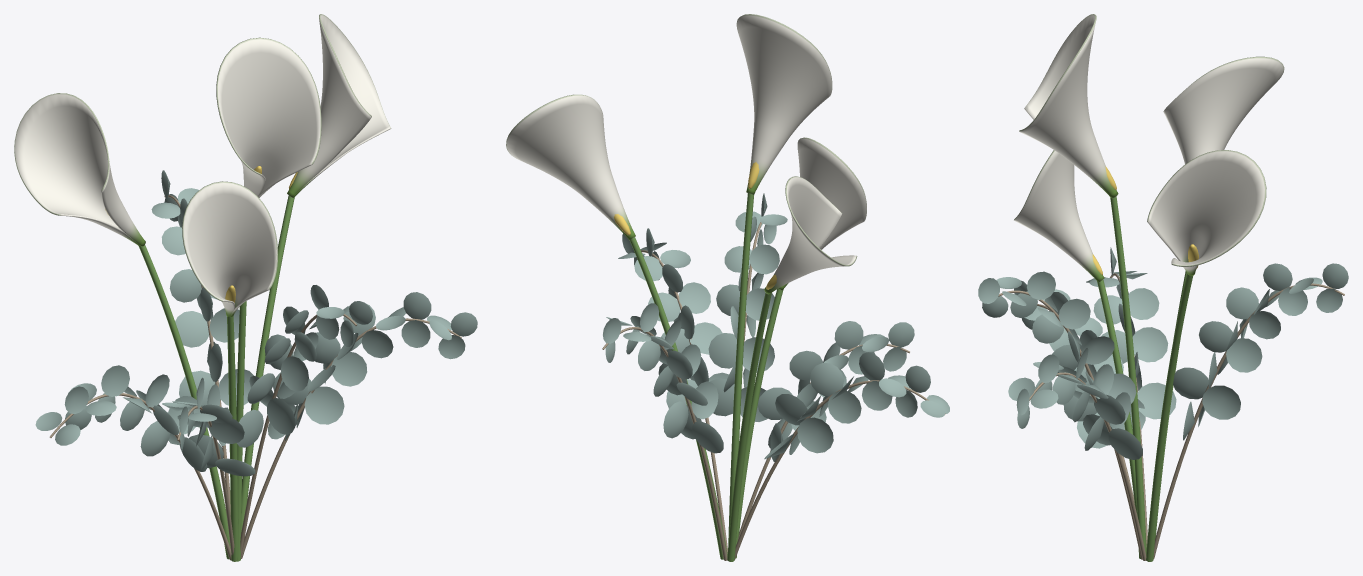
The model's file is flowers.glb.
3 views of the same model, side by side, from view 1: azimuth 30°, elevation 25°; view 2: azimuth 150°, elevation 25°; view 3: azimuth 270°, elevation 25° (orthographic). The views are drawn at different scales.
Parts seen in each view (by area): view 1: Flowers; view 2: Flowers; view 3: Flowers.
Part boxes in pixels (x1,y1,x2,y2): Flowers: [14, 14, 477, 561]; Flowers: [506, 14, 949, 561]; Flowers: [978, 14, 1348, 561].
Size of the model in its own units: 0.3309 by 0.4405 by 0.2769.
Materials: 5 (1 with a texture image).
